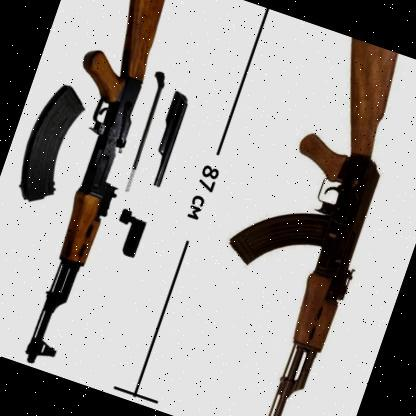rifle: (158, 17, 416, 416), (0, 0, 208, 374)
